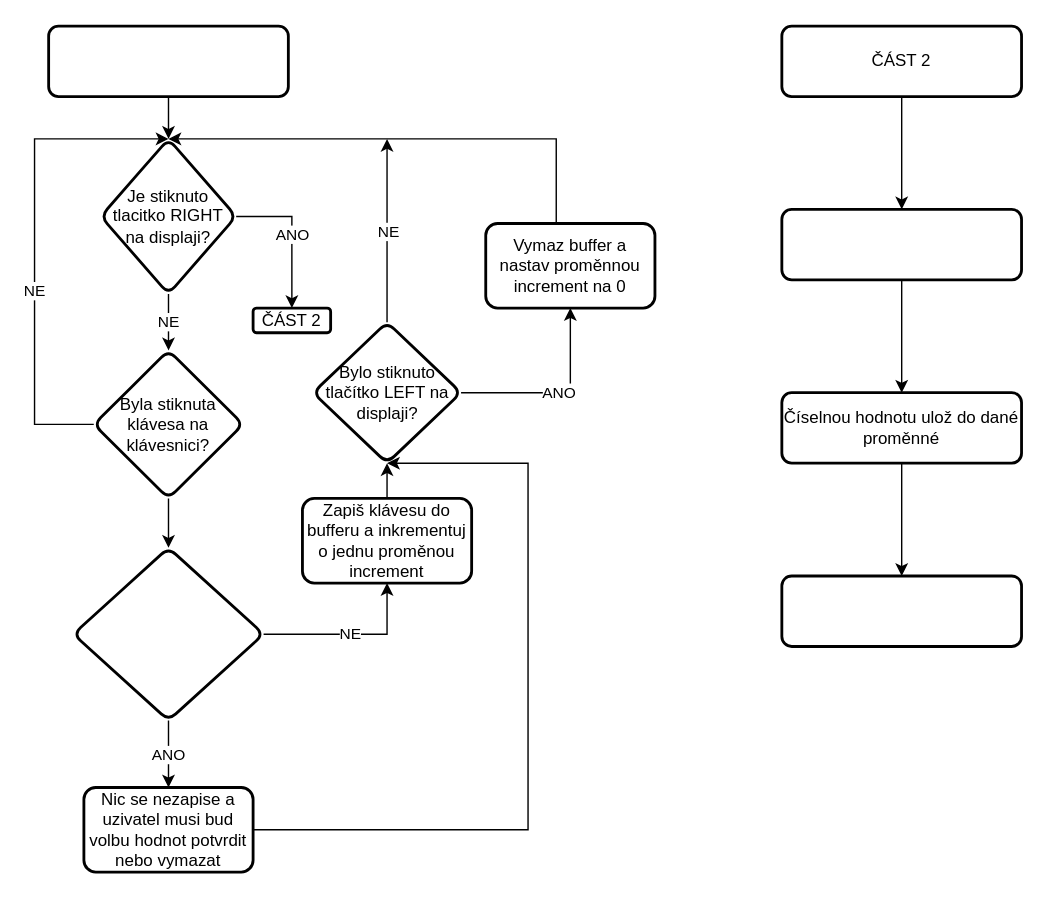
Image size: 1048x897. Some labels were removed from this diagram. The centre of each missing label's shape, as x and y in pixels:
Bylo dosazeno maximalni hodnoty proměnné increment?: point (167, 633)
Převední pomocí FOR funkce char znaky na číselnou hodnotu: point (901, 244)
Start podprogramu: point (168, 60)
Ukončit program: point (901, 610)
